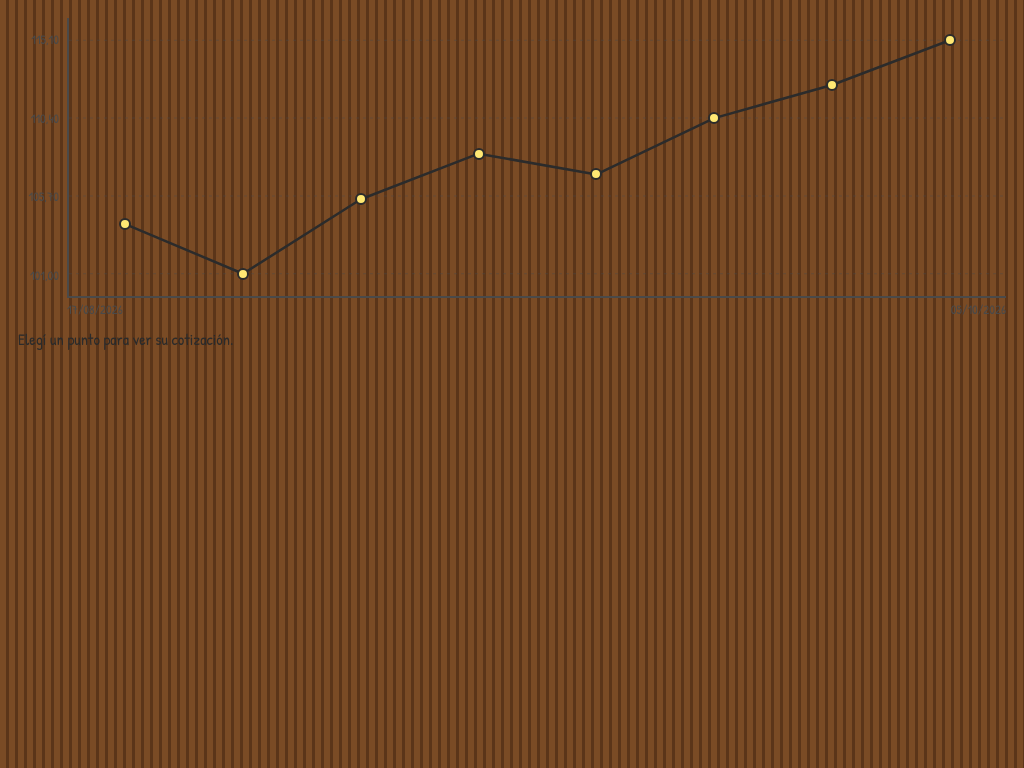
Test: QuoteChart › pasar el mouse o activar un punto también muestra su detalle
Hover over the button named "Cotización de la semana del " at (361, 199), box [347, 185, 375, 213]
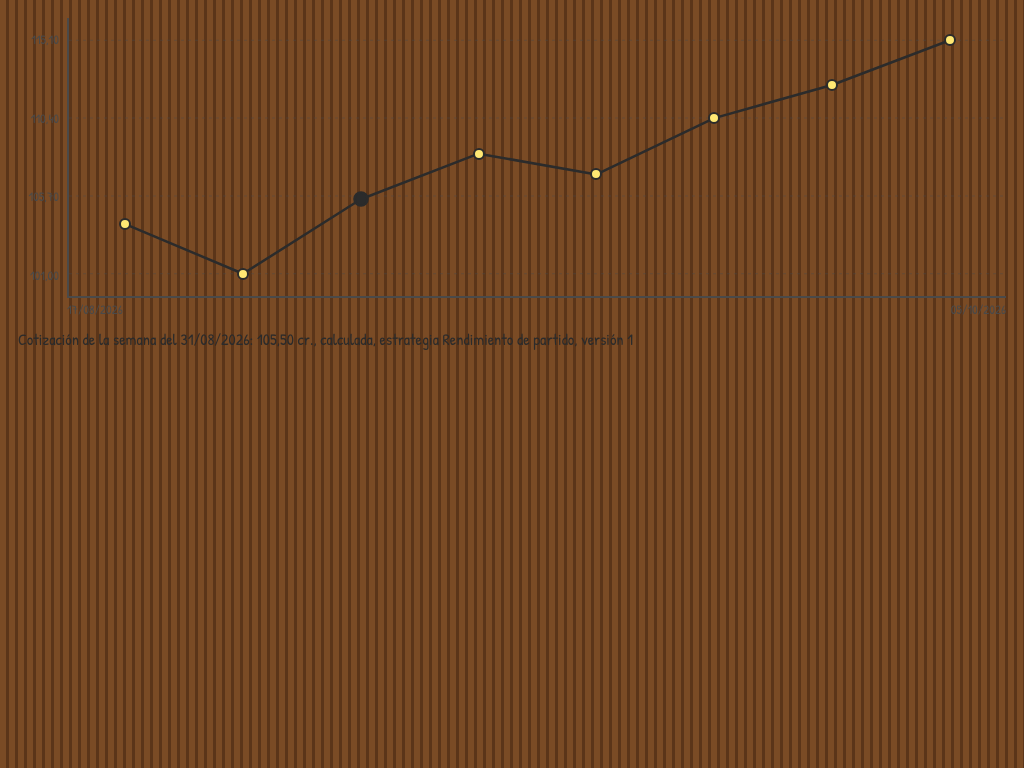
Now the text "Cotización de la semana del 31/08/2026:" is shown, box [18, 328, 633, 350]
Click the button named "Cotización de la semana del " at (479, 154), box [465, 140, 493, 168]
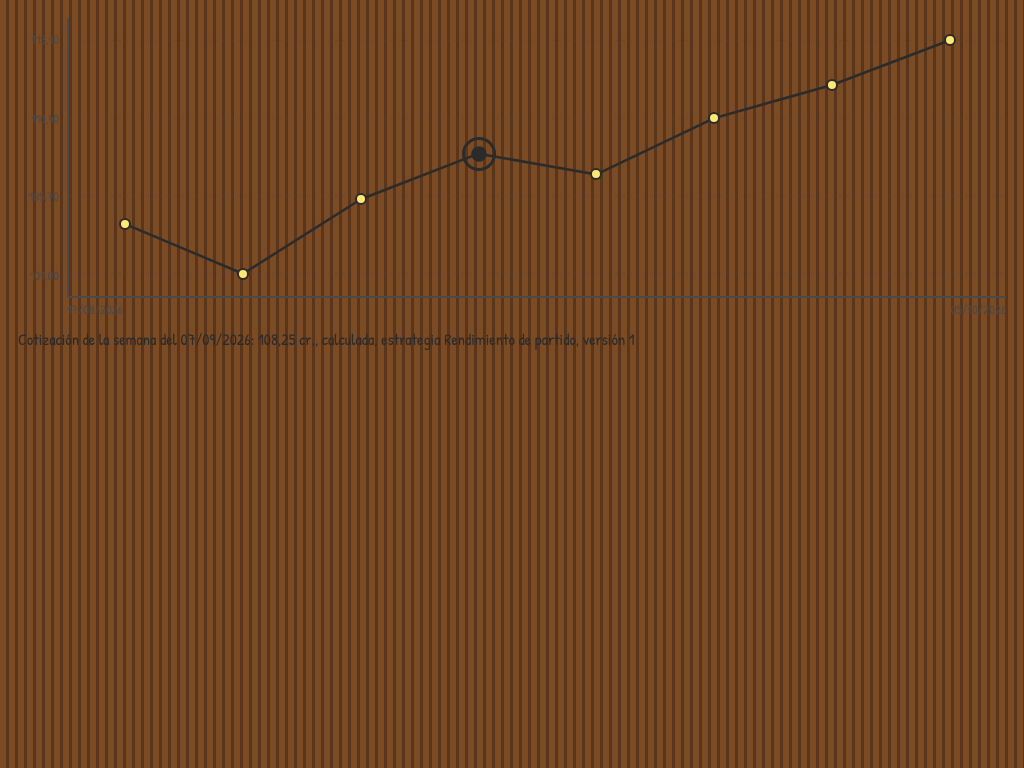
Now the text "Cotización de la semana del 07/09/2026:" is shown, box [18, 328, 635, 350]
